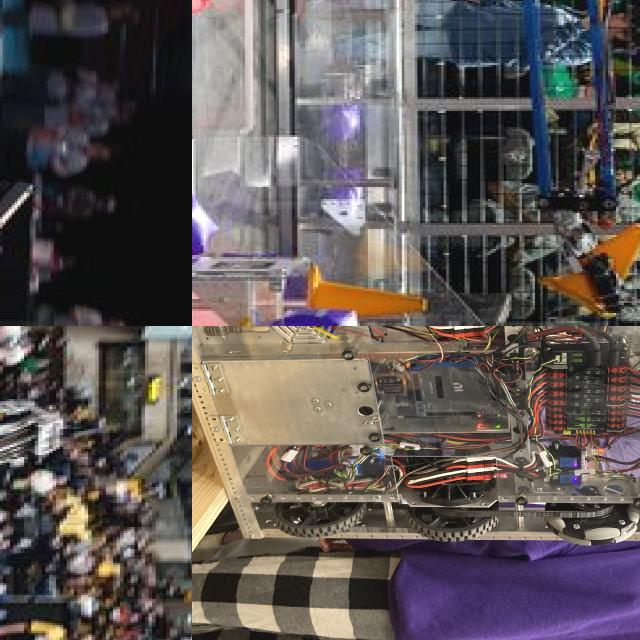FRC-Robots: (192, 0, 640, 315), (192, 326, 640, 562), (0, 363, 104, 589), (0, 515, 78, 634)
